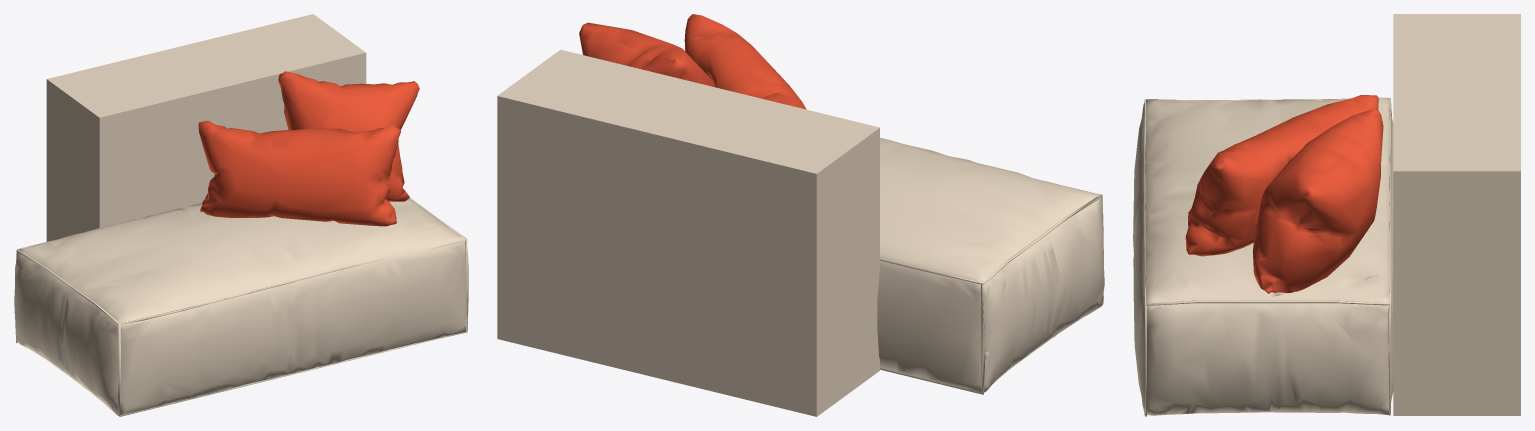
The picture shows the model from 3 angles, left to right: view 1: azimuth 30°, elevation 25°; view 2: azimuth 150°, elevation 25°; view 3: azimuth 270°, elevation 25°; orthographic projection. The views are drawn at different scales.
Visible parts, largest first — view 1: seat, back seat, cushions; view 2: back seat, seat, cushions; view 3: seat, back seat, cushions.
Part boxes in pixels (left/top/right/bottom): seat: left=14, top=198, right=468, bottom=416; back seat: left=46, top=14, right=366, bottom=241; cushions: left=198, top=71, right=419, bottom=226; back seat: left=497, top=49, right=879, bottom=416; seat: left=877, top=137, right=1104, bottom=394; cushions: left=579, top=14, right=806, bottom=109; seat: left=1133, top=97, right=1393, bottom=416; back seat: left=1393, top=14, right=1520, bottom=415; cushions: left=1185, top=95, right=1383, bottom=293.
Bounding box in the file's own units: 1.58 × 0.8553 × 1.17.
